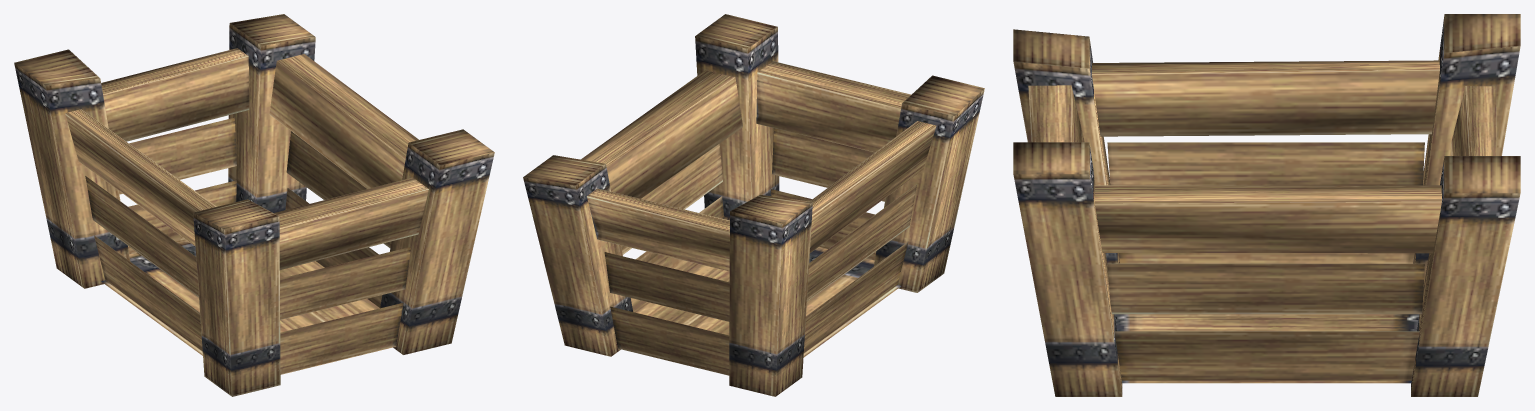
Rendered from crate01.glb.
The picture shows the model from 3 angles, left to right: view 1: azimuth 30°, elevation 25°; view 2: azimuth 150°, elevation 25°; view 3: azimuth 270°, elevation 25°; orthographic projection. The views are drawn at different scales.
Bounding box in the file's own units: 1.1 × 0.7719 × 1.48.
Materials: 1 (1 with a texture image).
